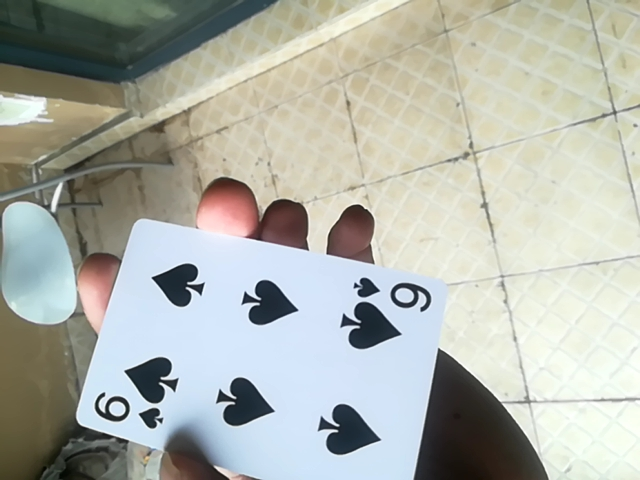ht 6: (75, 212, 450, 480)
